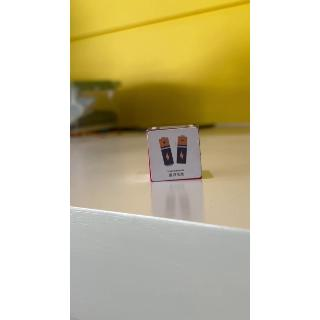Used_Battery: (150, 133, 205, 181)
